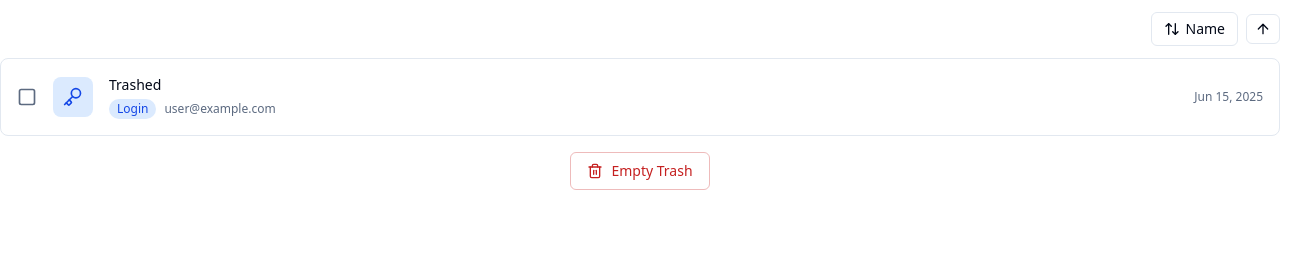
Scenario: VaultList › Multi-select mode › shows "Delete Forever" in trash multi-select
Click the checkbox named "Select item": (27, 97) [17,87,37,107]
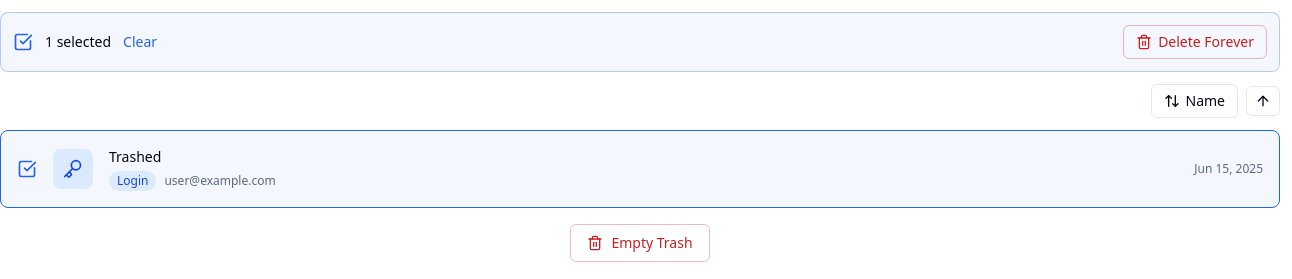
Expected: the button "Delete Forever" is shown, [1123,25,1267,59]
